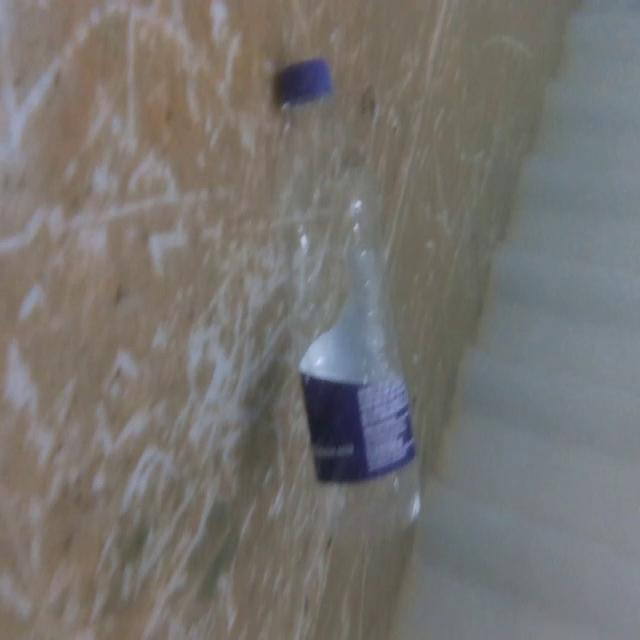plastic bottle: (269, 54, 432, 548)
